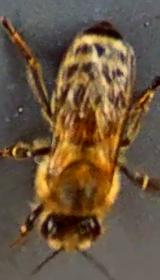varroa_mite: (67, 114, 98, 144)
